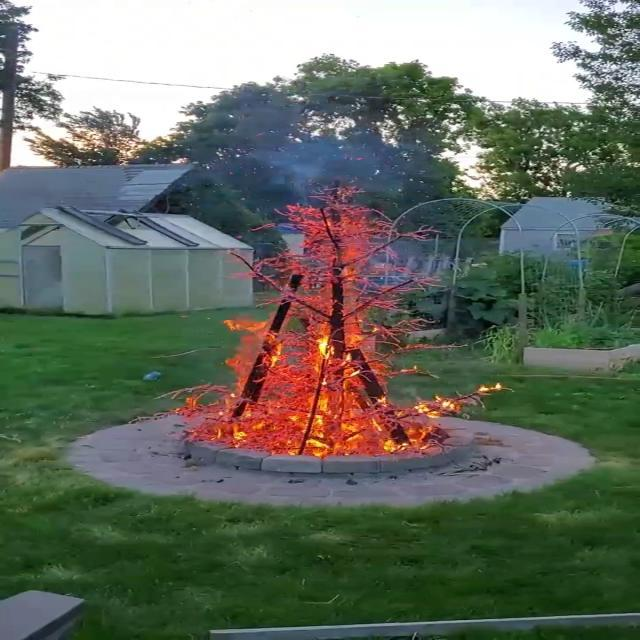Fire: (192, 193, 456, 457)
Smoke: (239, 88, 419, 202)
